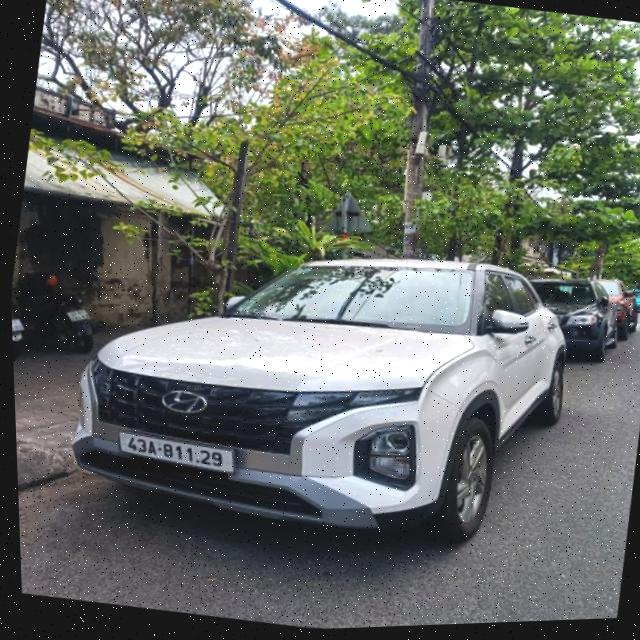car: (67, 196, 608, 596), (528, 264, 638, 373)
motorcycle: (10, 267, 110, 360)
plate: (108, 421, 244, 482)
